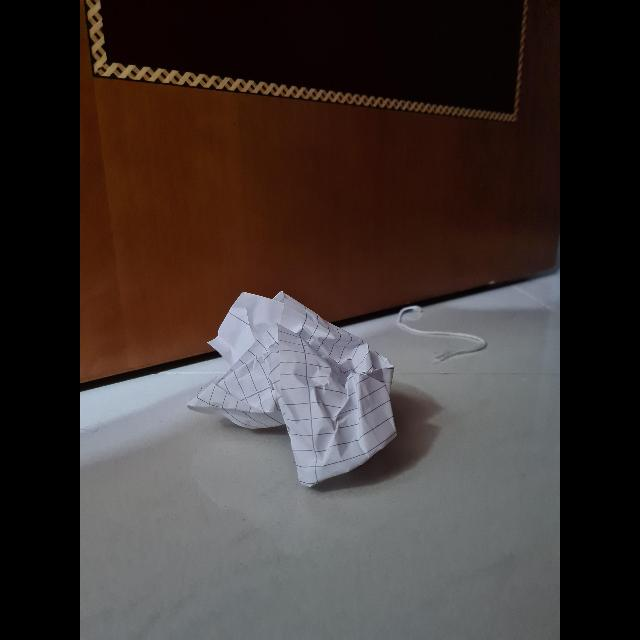scrap_paper: (198, 286, 396, 496)
